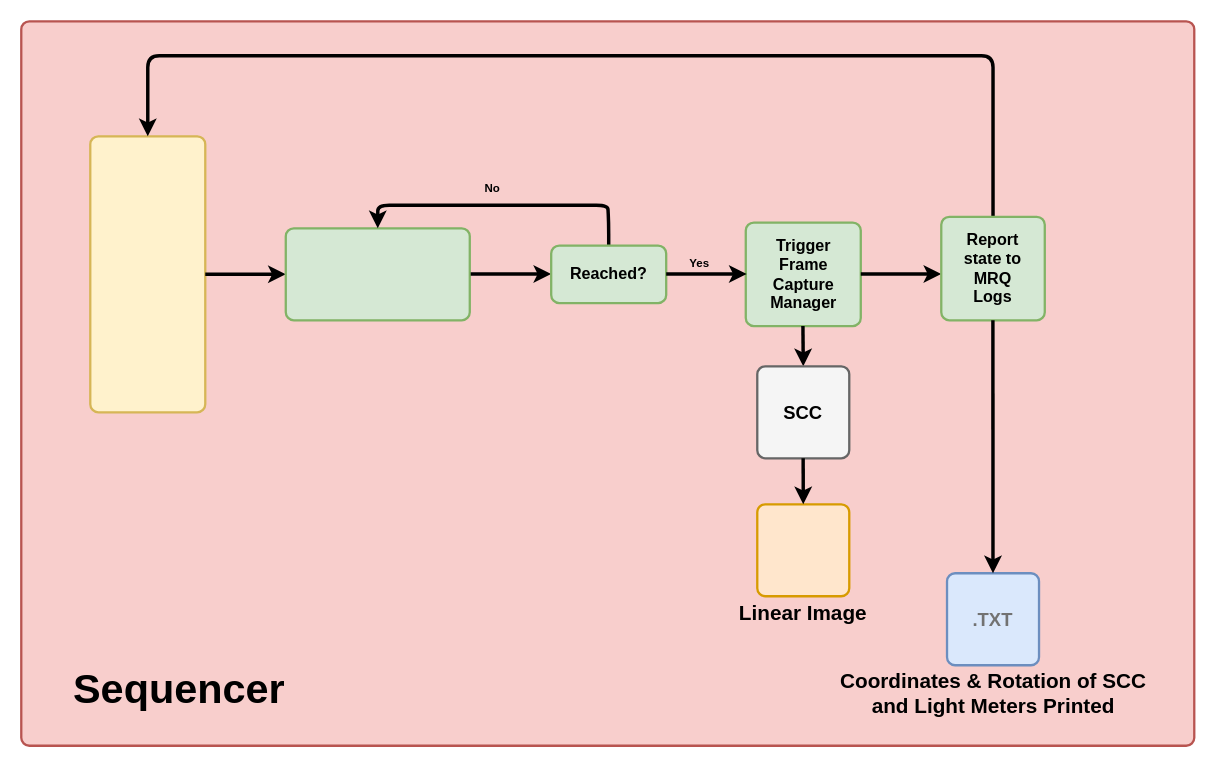
Image size: 1214x766. Some labels were removed from this diagram. Each missing label, with the centre of its shape:
".EXR" belongs at (803,550).
"Frame is about to be captured" belongs at (147,274).
"Wait for camera to reach next spline position" belongs at (377,274).
